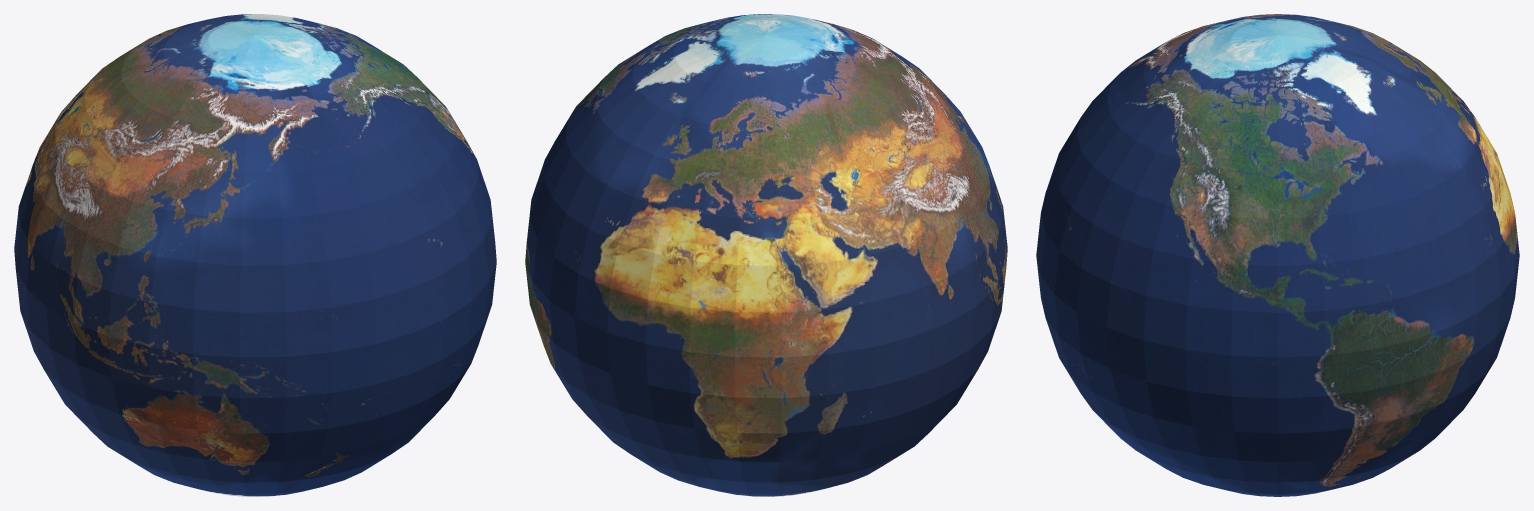
File: earth.obj
3 renders of one model, left to right at view 1: azimuth 30°, elevation 25°; view 2: azimuth 150°, elevation 25°; view 3: azimuth 270°, elevation 25°, orthographic.
Parts seen in each view (by area): view 1: Sphere; view 2: Sphere; view 3: Sphere.
Boxes of the visible parts, <box> form: Sphere: <box>14,14,496,496</box>; Sphere: <box>525,14,1007,496</box>; Sphere: <box>1036,14,1519,496</box>.
Size of the model in its own units: 2 by 2.01 by 2.
Materials: 1 (1 with a texture image).
